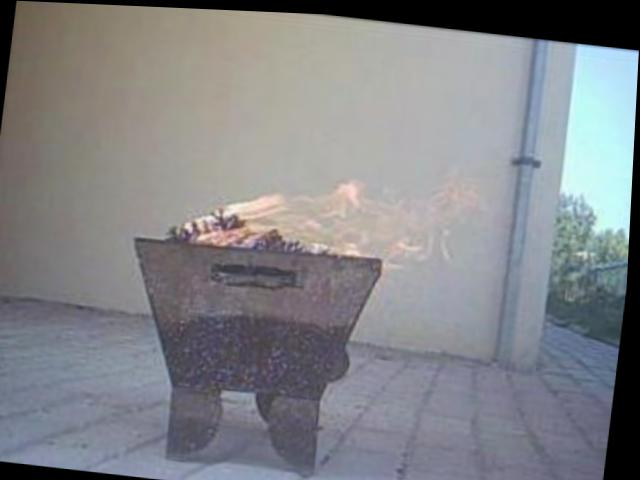fire: (152, 99, 519, 310)
